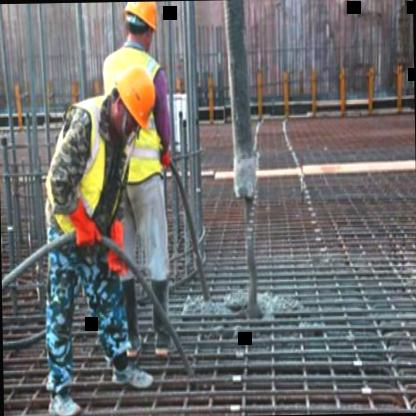helmet: (96, 46, 166, 149), (122, 1, 162, 53)
